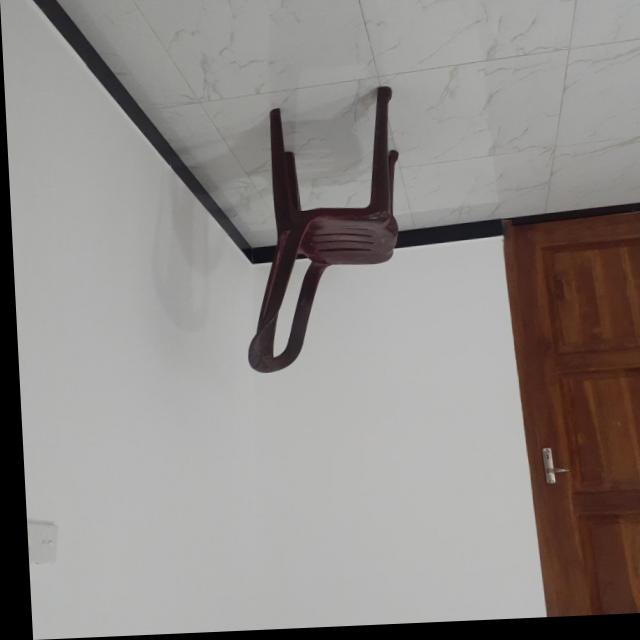Chair: (232, 90, 403, 377)
